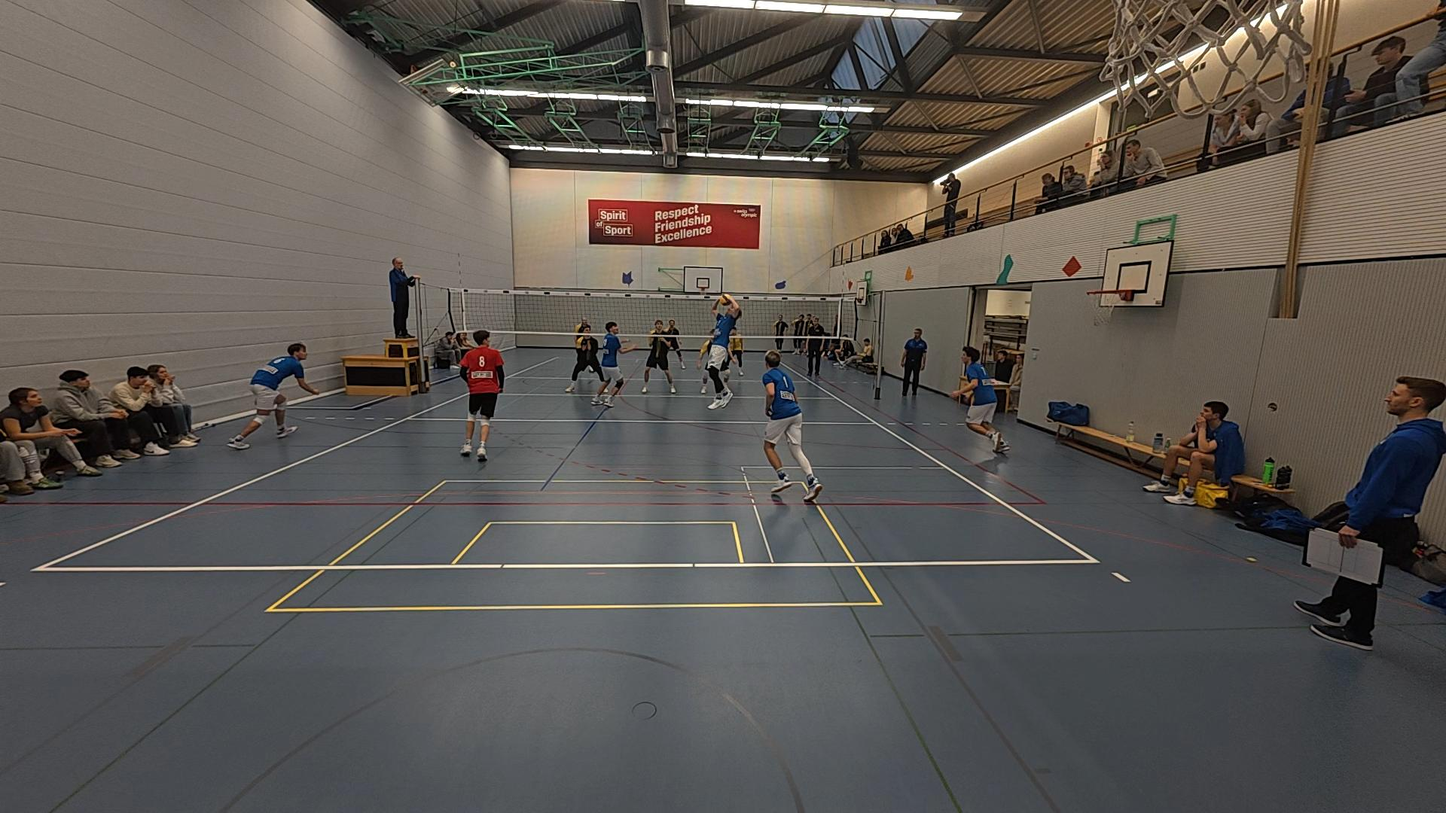Player: (758, 350, 823, 503), (228, 342, 320, 448), (458, 329, 505, 463), (956, 348, 1008, 455), (594, 322, 629, 409), (565, 321, 605, 394), (639, 321, 677, 395), (694, 326, 729, 396), (701, 339, 731, 407), (569, 315, 595, 374), (663, 318, 688, 373), (722, 323, 745, 376)
Set: (703, 292, 745, 395)
ball: (717, 293, 734, 306)
